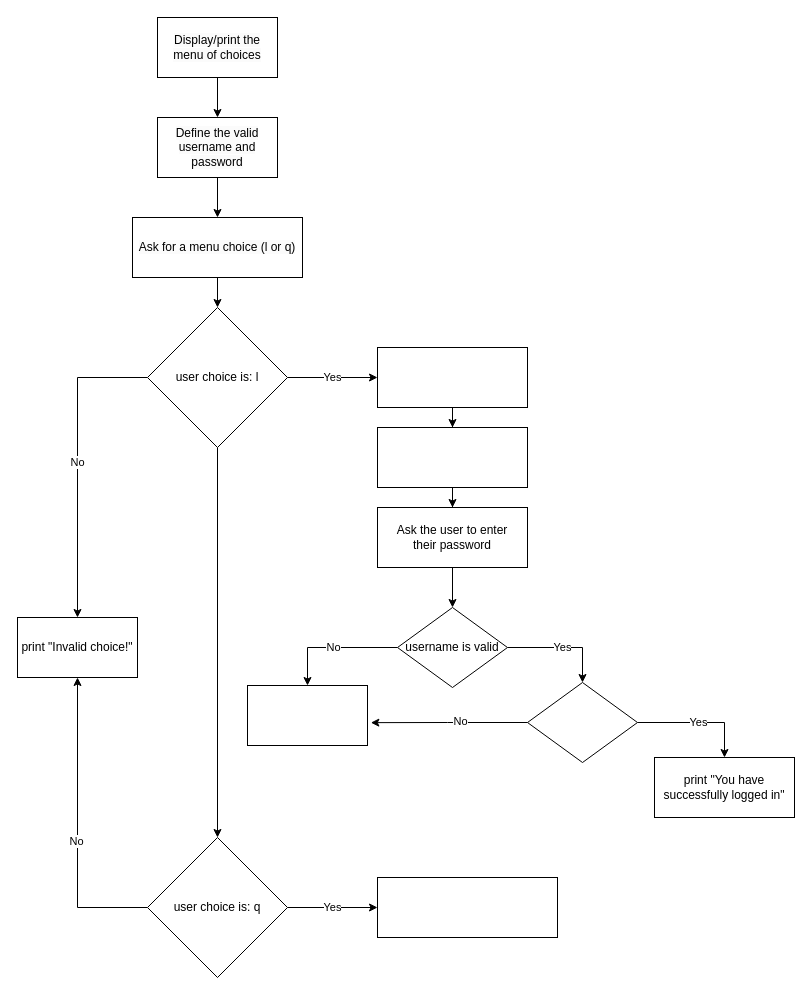
This 812x995 diagram has some shape labels left out. The shapes that lost their labels are listed below. From the top down, each one's box as (x1, y1, x2, y2) in pixels, then its label:
(376, 346, 528, 408): print "Logging you in..."
(376, 426, 528, 488): Ask the user to enter their username
(246, 684, 368, 746): print "invalid credentials "
(526, 682, 638, 762): password is valid
(376, 876, 558, 938): print "Quitting the program ..."
